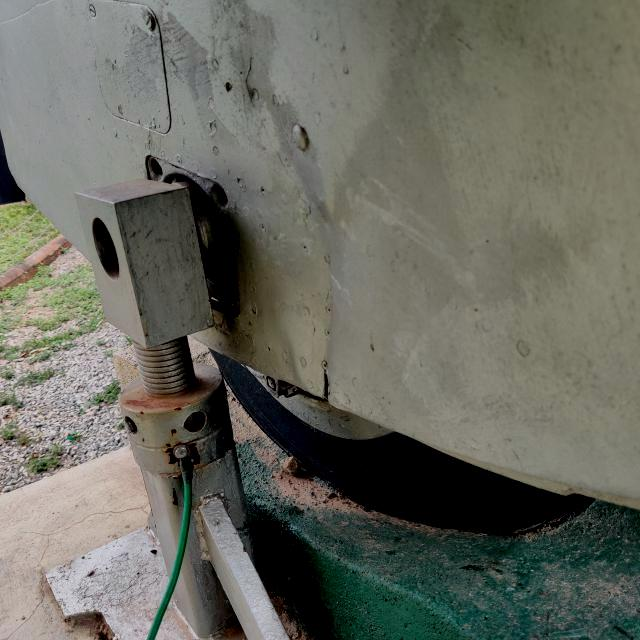crack: (303, 361, 341, 412)
